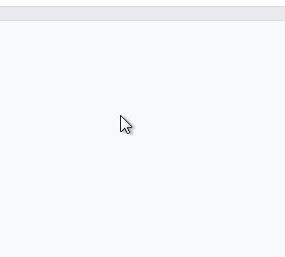cursor: (118, 113, 133, 137)
